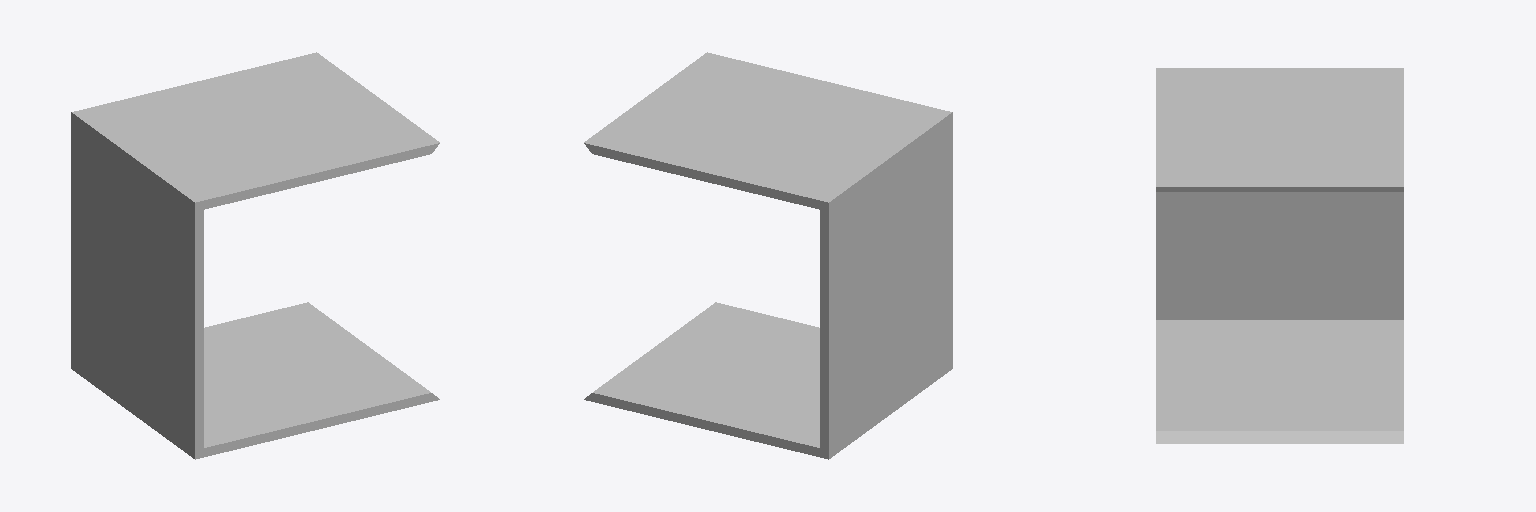
File: building.obj
3 views of the same model, side by side, from view 1: azimuth 30°, elevation 25°; view 2: azimuth 150°, elevation 25°; view 3: azimuth 270°, elevation 25° (orthographic).
Parts seen in each view (by area): view 1: Cube_Cube.001; view 2: Cube_Cube.001; view 3: Cube_Cube.001.
Part boxes in pixels (left/top/right/bottom): Cube_Cube.001: left=71, top=52, right=439, bottom=459; Cube_Cube.001: left=584, top=52, right=952, bottom=459; Cube_Cube.001: left=1156, top=68, right=1403, bottom=443.
Size of the model in its own units: 53.63 by 53.63 by 46.77.